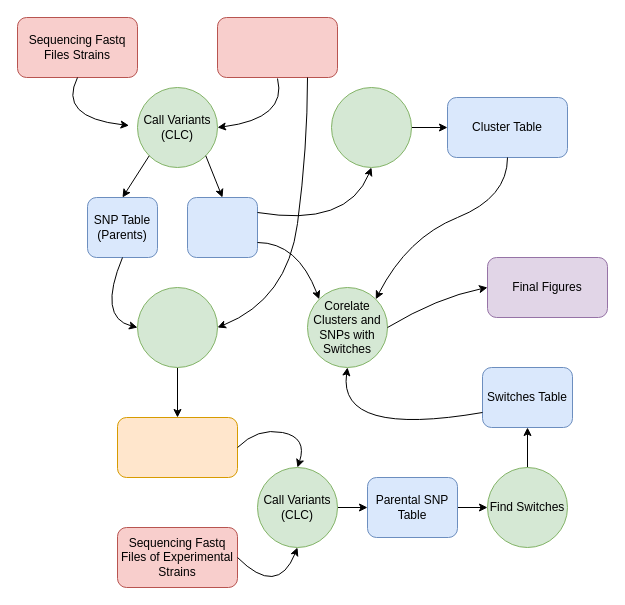
Image size: 625x605. Some labels were removed from this diagram. Here are the shapes that lost their labels. From the top down, the centre of each, then its label:
(x=277, y=47): S288C Reference Genome
(x=371, y=127): PMACD Cluster Finder
(x=222, y=227): SNP Table (Samples)
(x=177, y=327): Substitute SNP Positions in Reference
(x=177, y=447): Parental Reference Genome (for calling switches)
